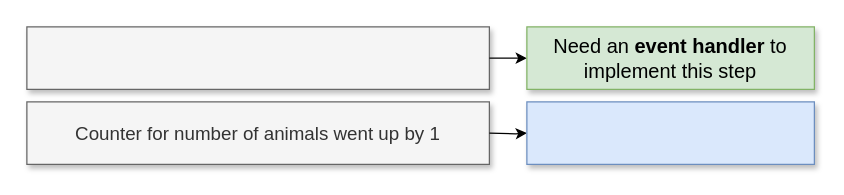
Some shapes in this 844 by 195 pixel diagram are drawn without their labels. The shapes that lost their labels are listed below. From the top down, each one's centre as x and y in pixels, then its label:
At point 259,59: "I clicked on the button".
At point 671,134: "Need state to implement this step".
